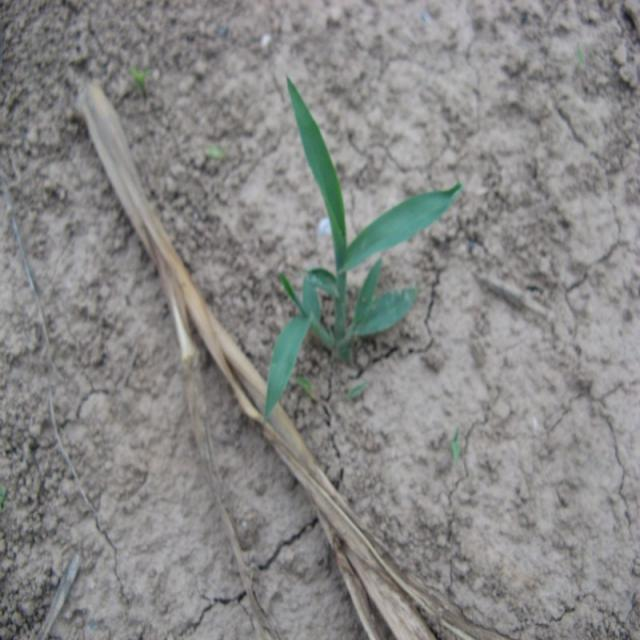bg: (259, 73, 464, 420)
